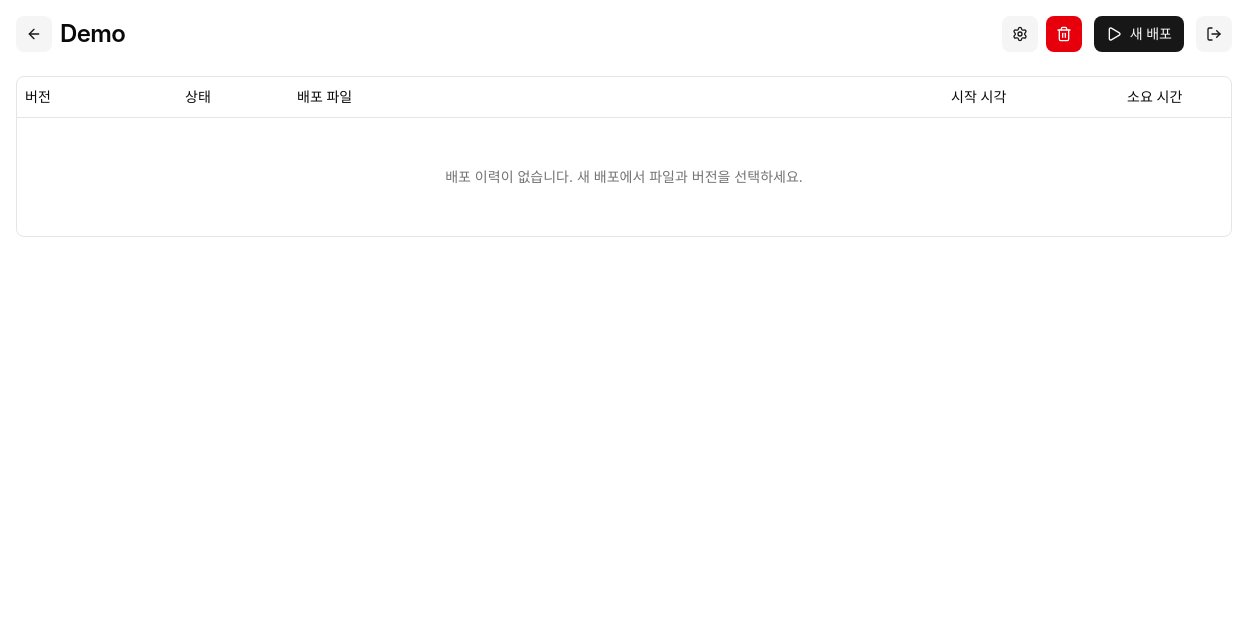
Test: React deployment console › session expiry clears the workspace and logout uses the API
Check: the heading "Demo" is shown, box [60,16,125,52]
Click the link named "프로젝트 목록" at (34, 34), box [16,16,52,52]
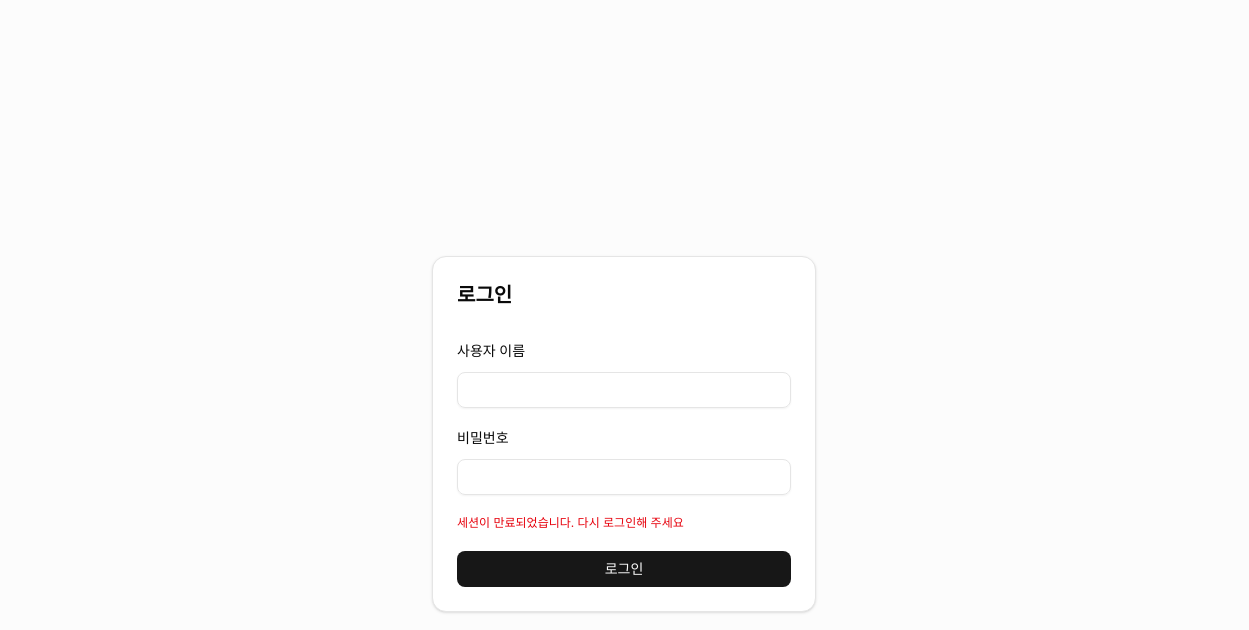
Check: the heading "로그인" is shown, box [457,283,512,307]
Check: the message shows "세션이 만료", box [457,515,684,530]
